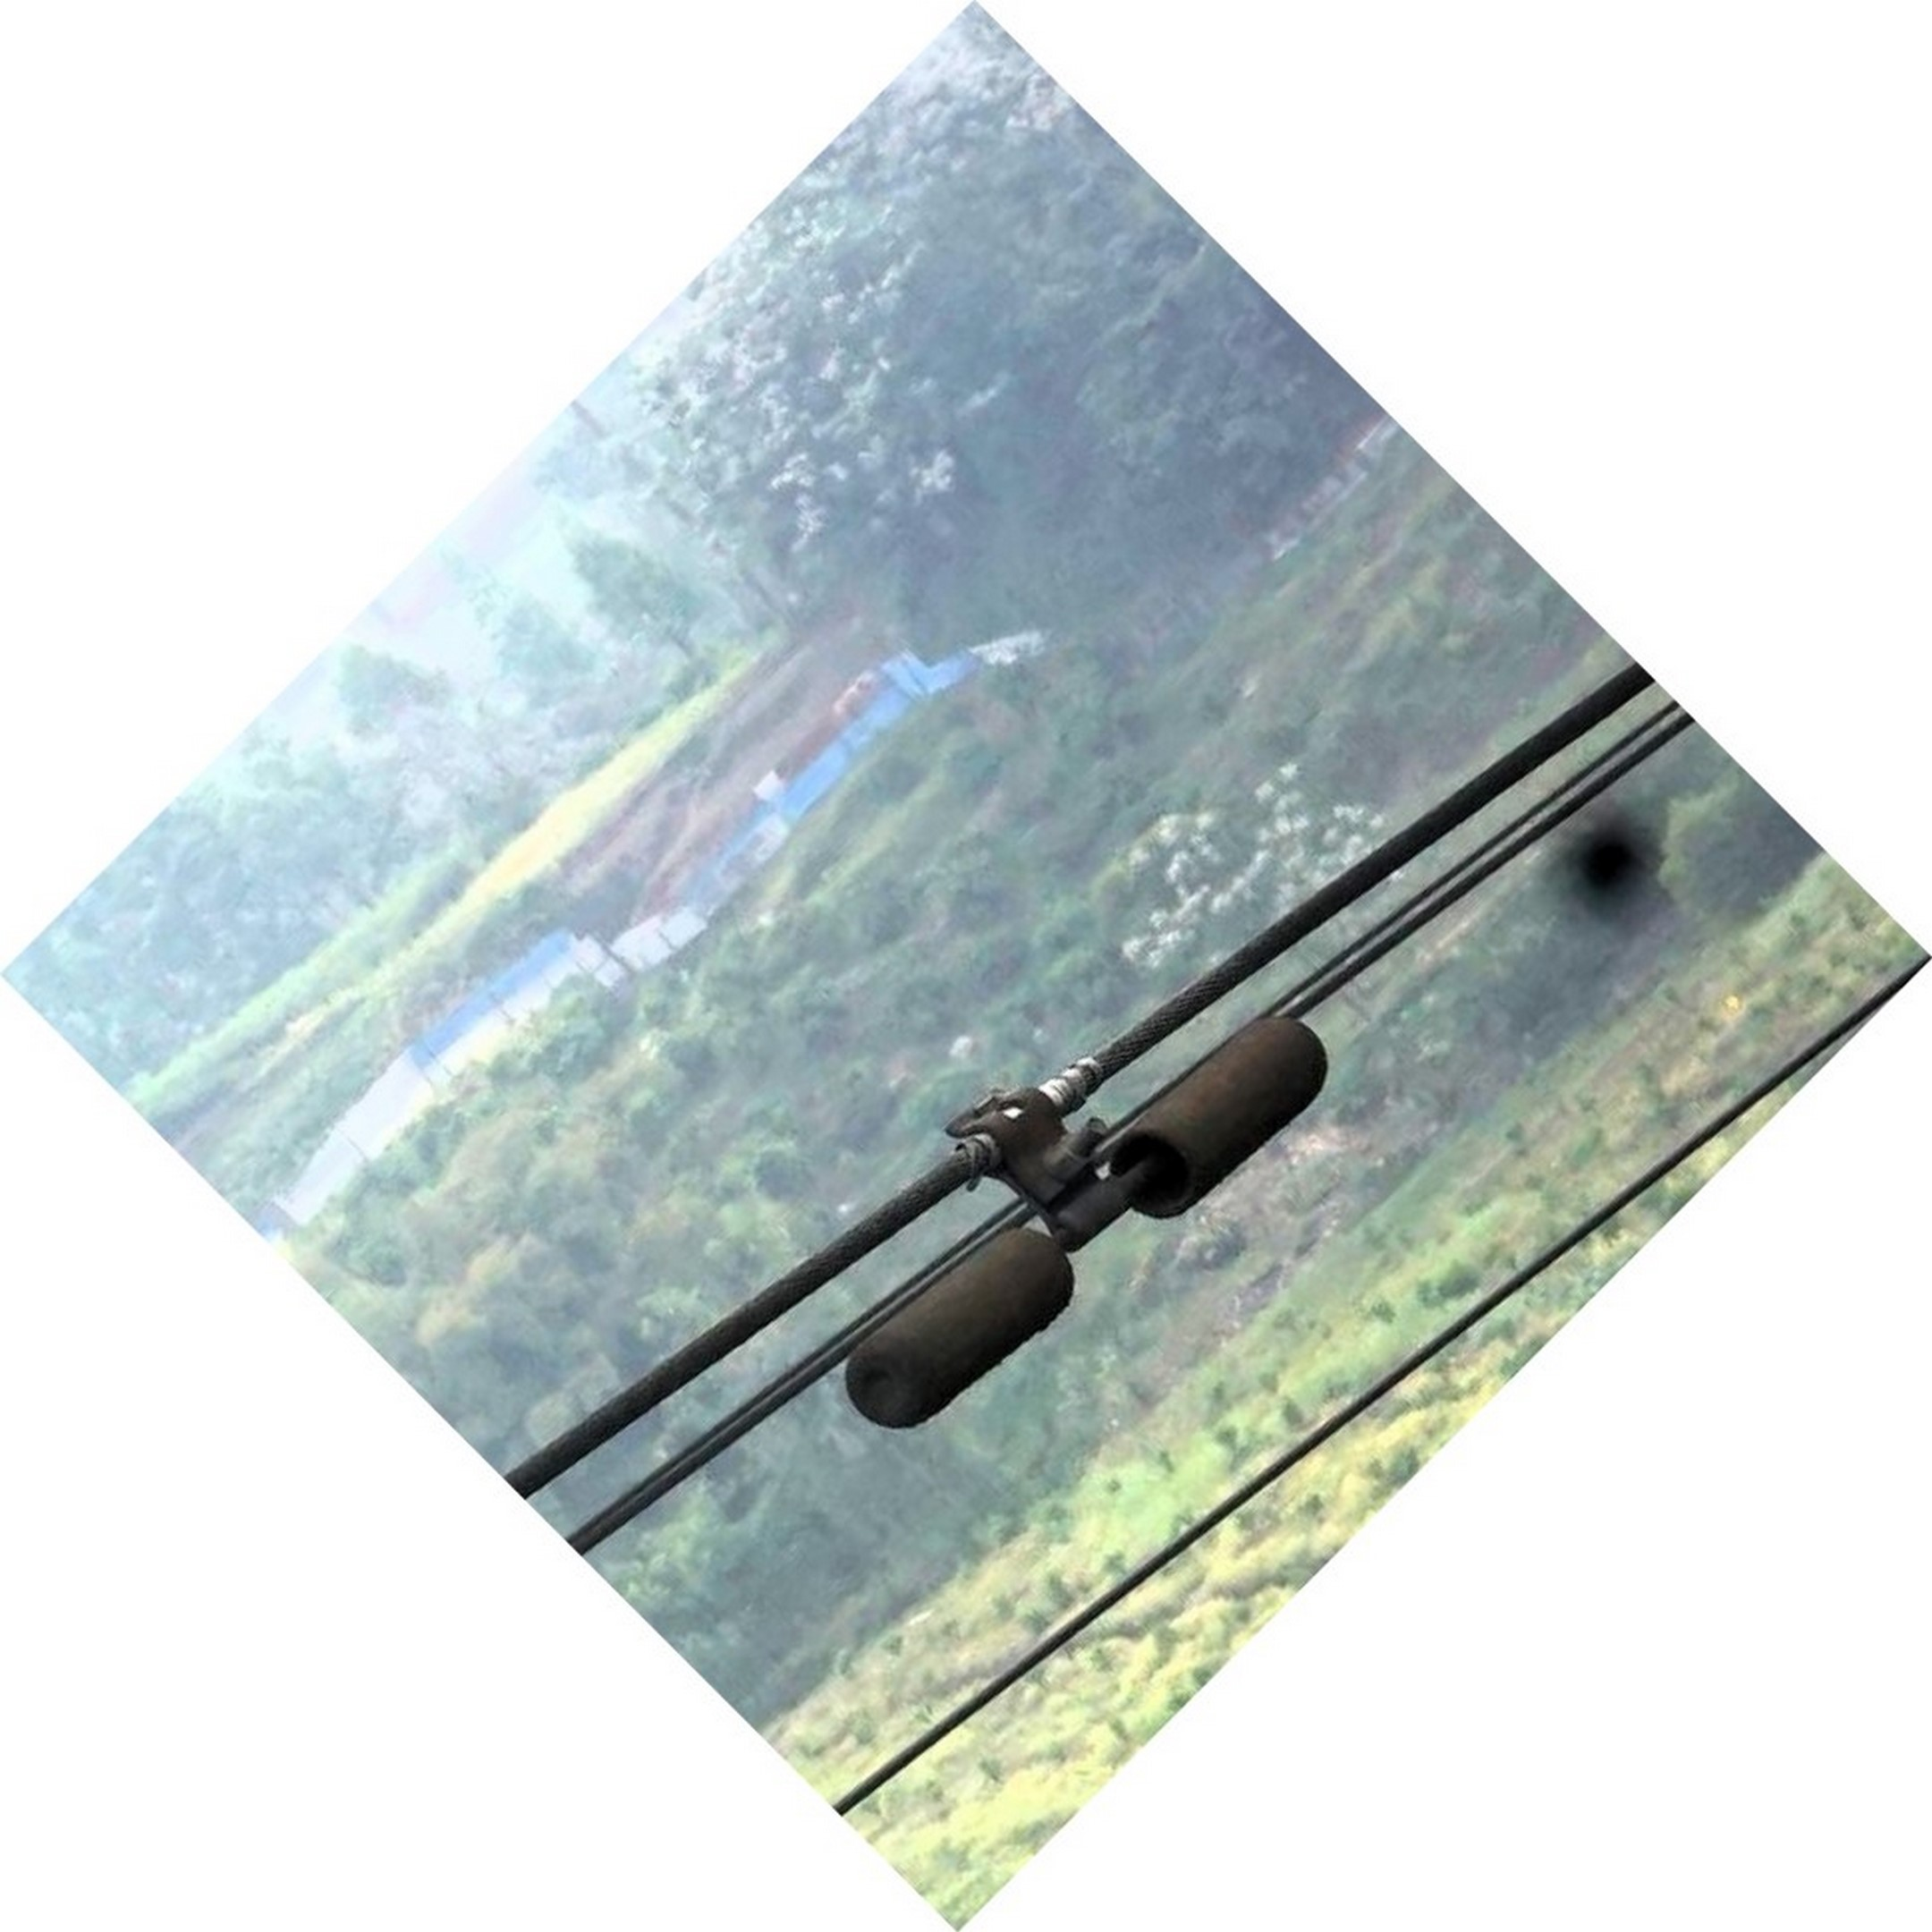Shockproof hammer: (810, 978, 1373, 1435)
